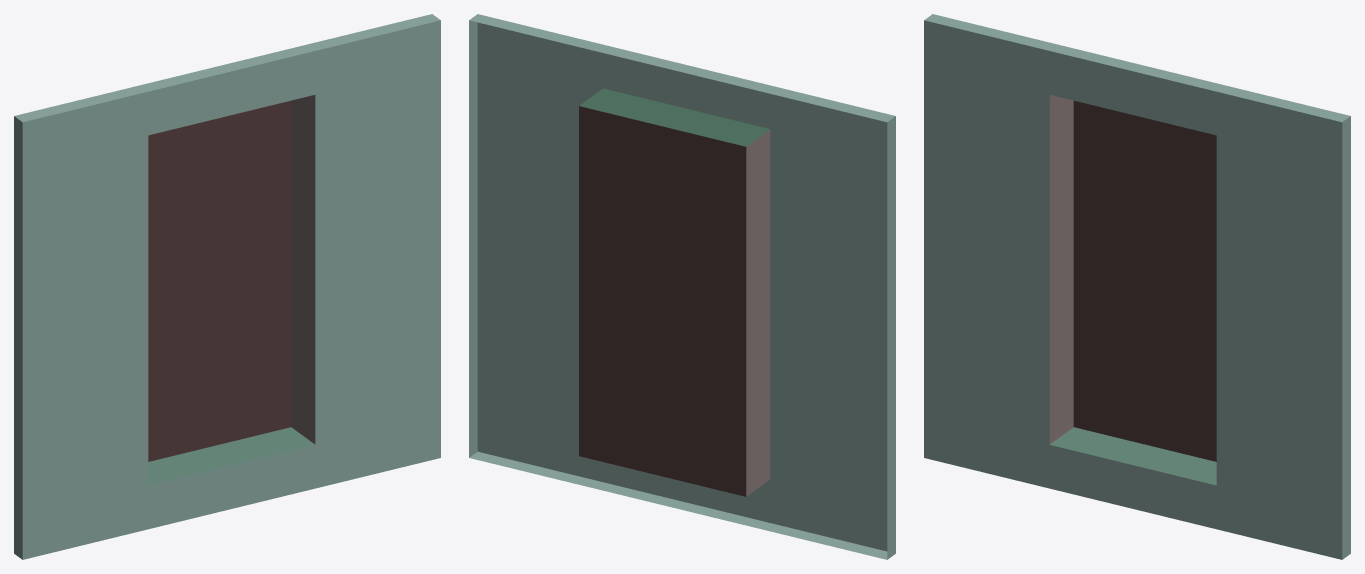
Rendered from SM_Fenetre1x1_1.FBX.
The picture shows the model from 3 angles, left to right: view 1: azimuth 30°, elevation 25°; view 2: azimuth 150°, elevation 25°; view 3: azimuth 330°, elevation 25°; orthographic projection.
Visible parts, largest first — view 1: SM_Fenetre1x1_1; view 2: SM_Fenetre1x1_1; view 3: SM_Fenetre1x1_1.
Part boxes in pixels (x1,y1,x2,y2): SM_Fenetre1x1_1: (14, 14, 440, 559); SM_Fenetre1x1_1: (469, 14, 895, 559); SM_Fenetre1x1_1: (924, 14, 1350, 559).
Bounding box in the file's own units: 100 × 100 × 10.
